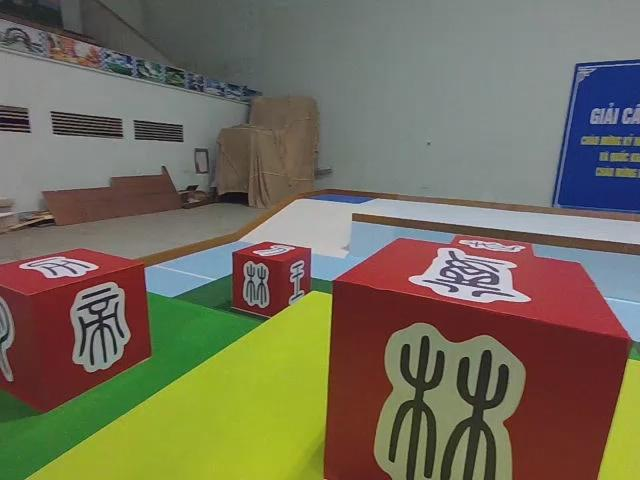R2 Fake: (316, 228, 639, 480), (0, 242, 152, 413), (231, 238, 312, 320)
